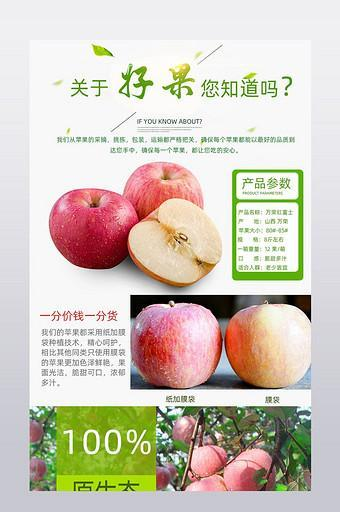apple: (130, 198, 223, 285), (130, 301, 222, 386), (223, 301, 312, 388), (48, 188, 137, 271), (123, 160, 203, 221), (188, 444, 227, 477)
